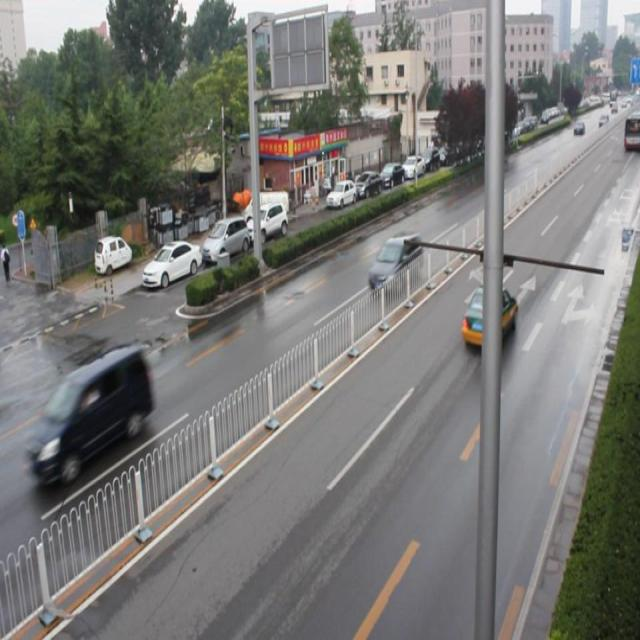car: (460, 280, 518, 352), (366, 230, 422, 296)
